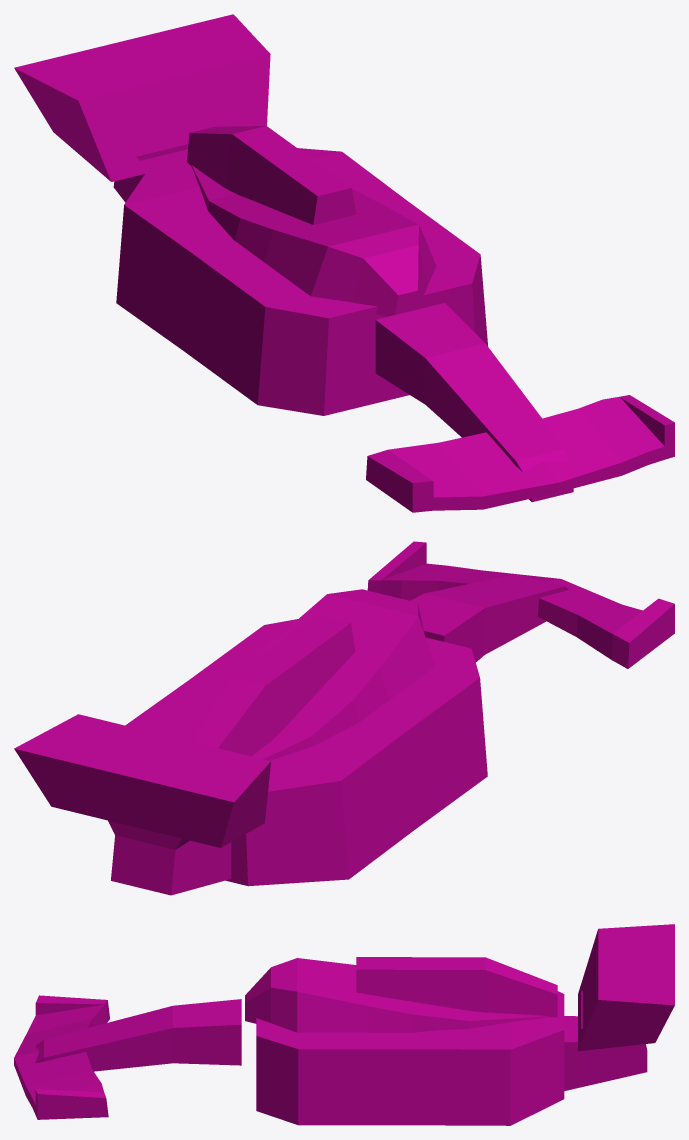
The model's file is SM_Veh_OpenWheeler_01_Preset_02_Collision.fbx.
3 views of the same model, one above another, from view 1: azimuth 30°, elevation 25°; view 2: azimuth 150°, elevation 25°; view 3: azimuth 270°, elevation 25° (orthographic). The views are drawn at different scales.
Parts seen in each view (by area): view 1: SM_Veh_OpenWheeler_01_Preset_02_Collision; view 2: SM_Veh_OpenWheeler_01_Preset_02_Collision; view 3: SM_Veh_OpenWheeler_01_Preset_02_Collision.
Part boxes in pixels (left/top/right/bottom): SM_Veh_OpenWheeler_01_Preset_02_Collision: left=14, top=14, right=674, bottom=512; SM_Veh_OpenWheeler_01_Preset_02_Collision: left=14, top=541, right=674, bottom=895; SM_Veh_OpenWheeler_01_Preset_02_Collision: left=14, top=924, right=674, bottom=1125.
Size of the model in its own units: 257 by 148 by 741.
